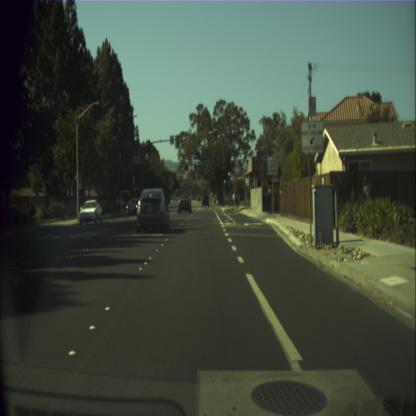Green: (197, 152, 200, 164), (227, 165, 230, 177), (223, 173, 226, 184)
